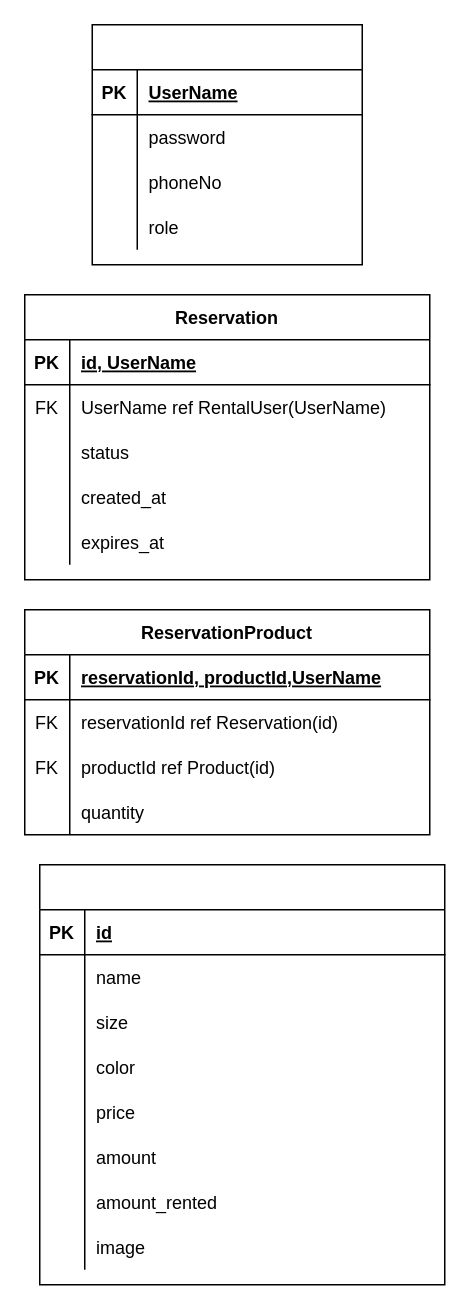
Some shapes in this 470 by 1310 pixel diagram are drawn without their labels. The box of each missing label's shape, as (x1, y1, x2, y2) in pixels:
Product: (38, 863, 445, 1285)
RentalUser: (91, 23, 362, 265)
